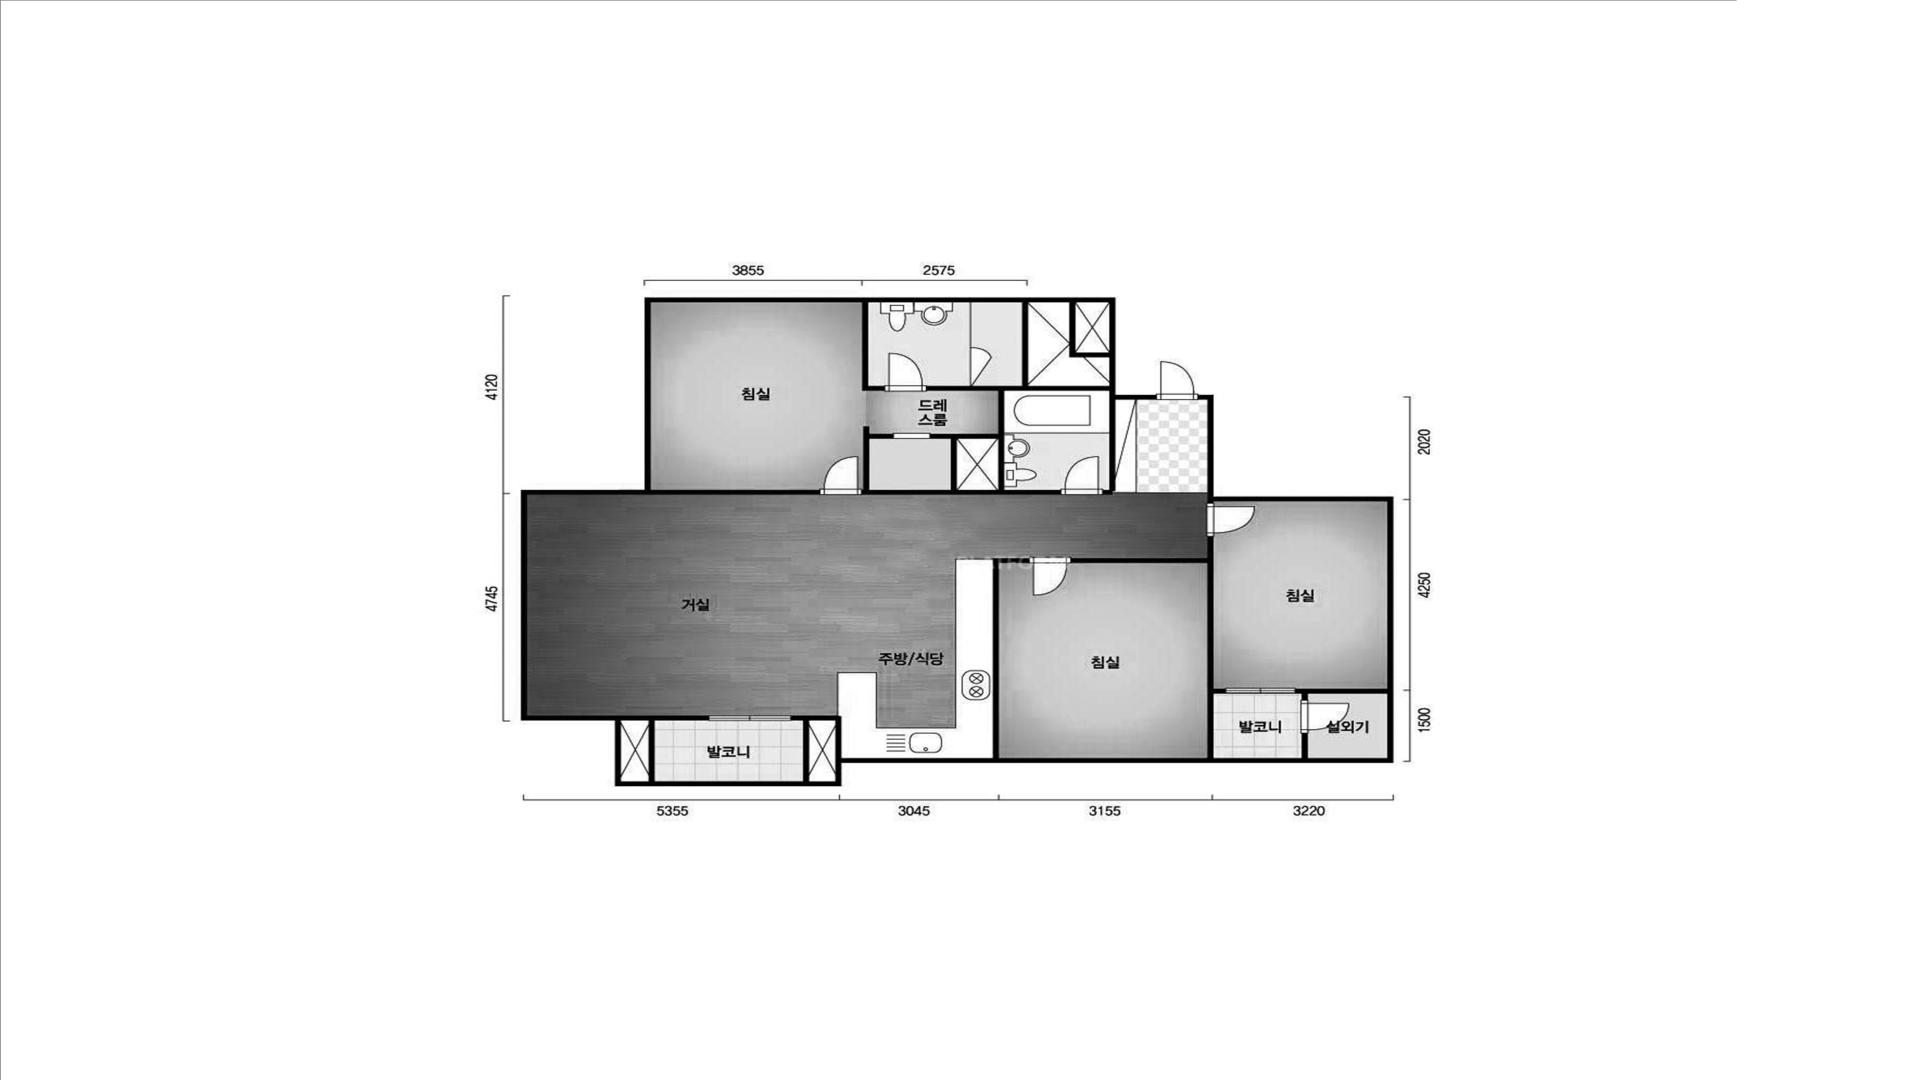door: (1207, 501, 1257, 537), (820, 455, 862, 496), (885, 352, 927, 392), (1030, 558, 1072, 596), (1156, 361, 1199, 400), (1302, 700, 1350, 733), (1062, 456, 1102, 495)
wall: (521, 297, 1394, 786), (862, 303, 1109, 496), (1072, 537, 1225, 758), (993, 558, 1030, 758), (621, 715, 709, 782), (791, 715, 841, 781), (1069, 303, 1110, 357), (957, 439, 998, 491), (861, 303, 885, 390), (1104, 400, 1116, 495), (1296, 688, 1387, 700), (651, 489, 820, 495), (1302, 733, 1308, 758)
window: (709, 715, 791, 721), (1225, 688, 1296, 694)
